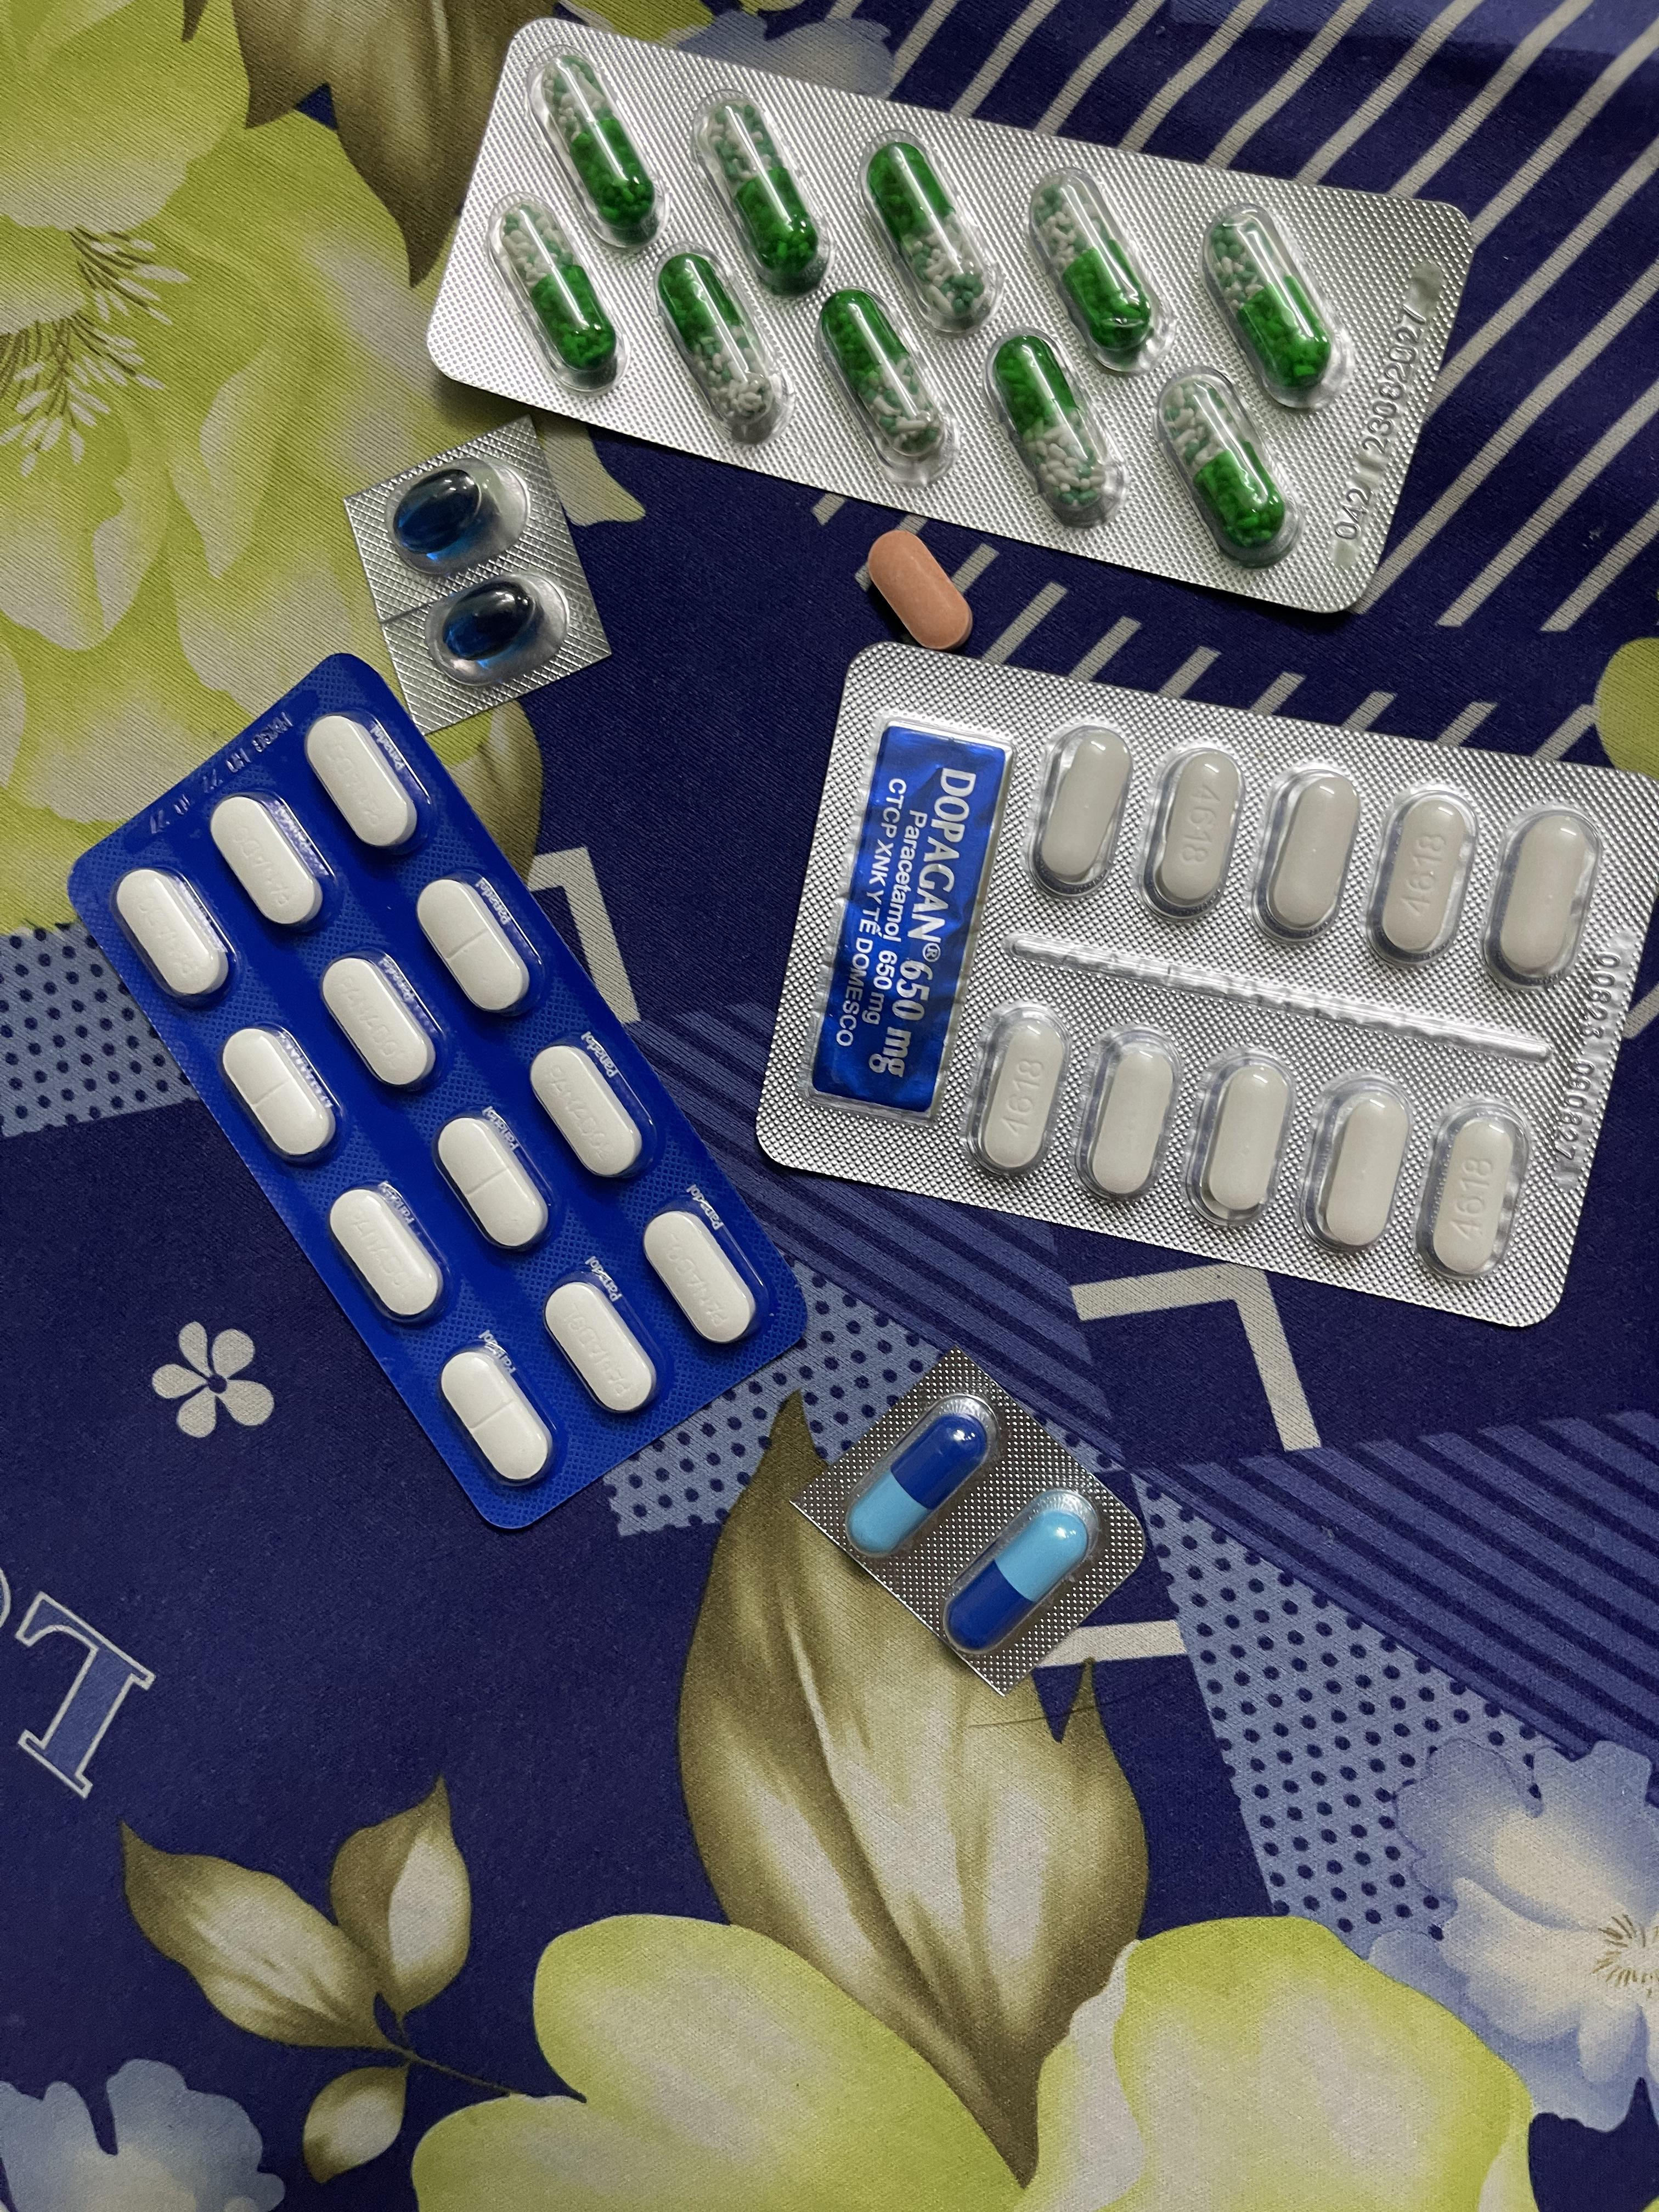Lincomyxin_500mg: (441, 580, 540, 664), (392, 472, 484, 557)
Loratadine_10mg: (868, 529, 974, 655)
Paracetamol_350mg: (530, 1040, 648, 1181), (305, 714, 425, 850), (113, 866, 232, 1003), (545, 1277, 662, 1416), (436, 1111, 552, 1251), (645, 1207, 762, 1346), (328, 1186, 446, 1322), (416, 880, 533, 1015), (321, 953, 436, 1090), (223, 1026, 338, 1163), (441, 1345, 554, 1484), (209, 794, 326, 928)
Paracetamol_500mg: (1483, 803, 1607, 989), (1413, 1097, 1532, 1284), (1248, 763, 1366, 946), (1364, 786, 1483, 968), (1297, 1073, 1412, 1254), (1185, 1049, 1298, 1226), (1136, 744, 1246, 921), (1075, 1024, 1183, 1202), (962, 1003, 1068, 1181), (1026, 725, 1134, 897)
Paracetamol_650mg: (1204, 204, 1356, 409), (486, 195, 633, 401), (1155, 366, 1304, 566), (1032, 165, 1171, 373), (816, 287, 955, 488), (985, 324, 1121, 528), (692, 91, 817, 298), (659, 247, 784, 427), (873, 146, 988, 326), (544, 70, 653, 235)
pill: (843, 1397, 999, 1555), (948, 1486, 1096, 1648)
